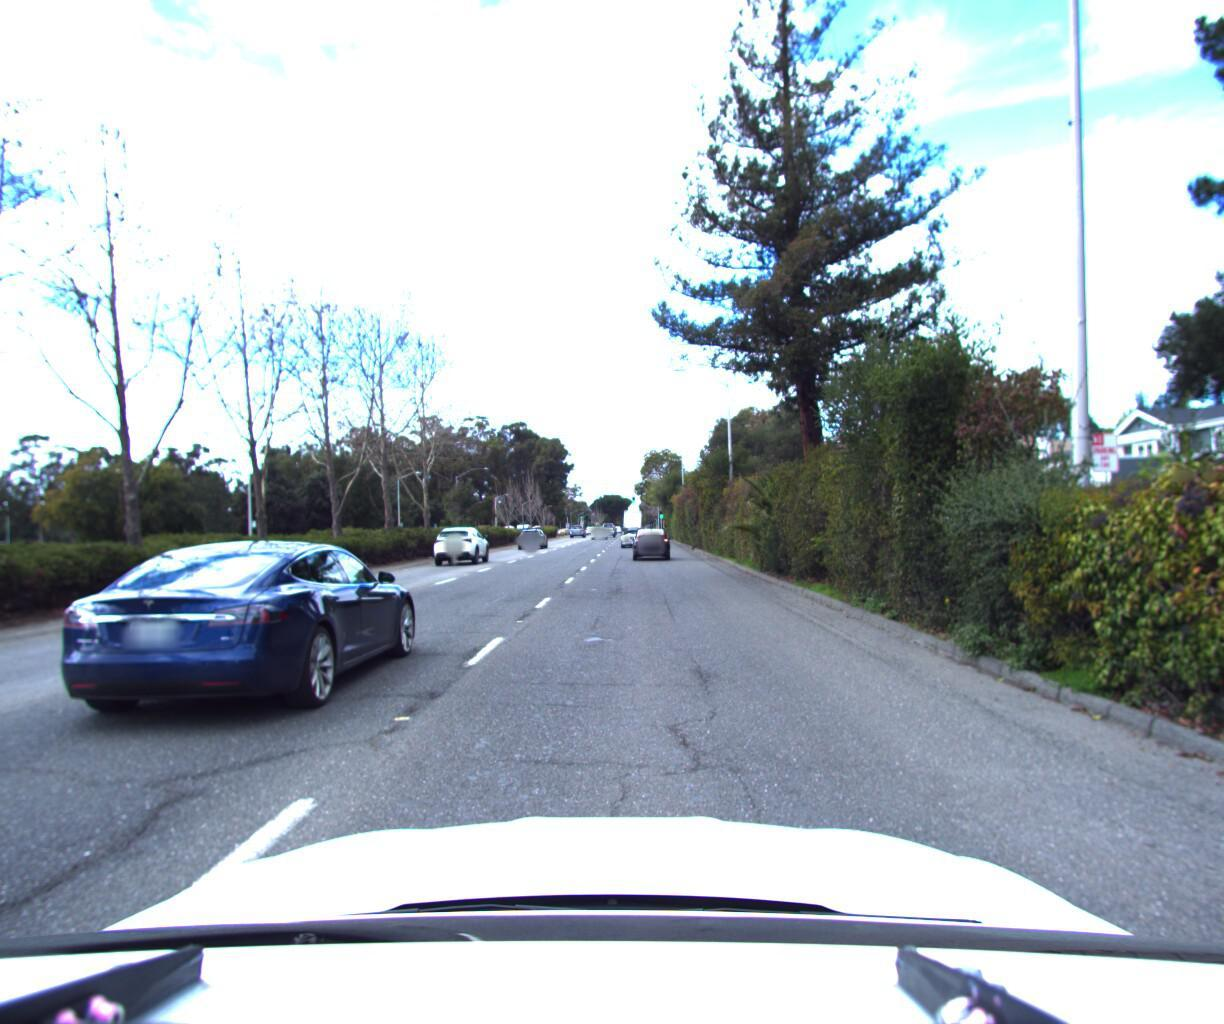car: (26, 536, 433, 744), (433, 522, 498, 566), (629, 525, 673, 562), (517, 523, 551, 550), (611, 524, 642, 550)
